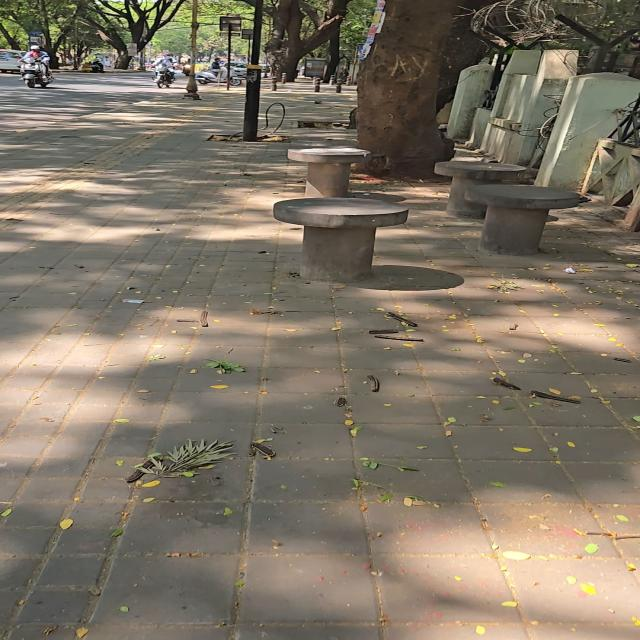auto: (274, 198, 408, 282), (467, 185, 580, 255), (435, 161, 525, 218), (288, 147, 370, 197)
bench: (313, 77, 321, 92), (336, 78, 343, 92), (272, 77, 277, 90), (330, 75, 335, 85), (281, 73, 286, 83), (347, 76, 351, 85)
bike: (243, 0, 263, 141), (185, 0, 200, 99), (21, 58, 53, 88), (195, 67, 228, 84), (155, 64, 175, 87), (227, 25, 231, 90), (90, 59, 104, 72), (182, 64, 191, 75)
